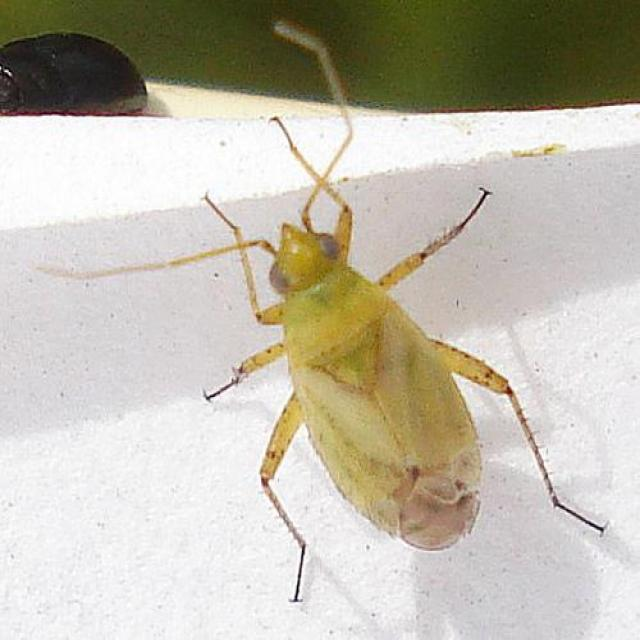Miridae-Adult-: (71, 19, 615, 607)
